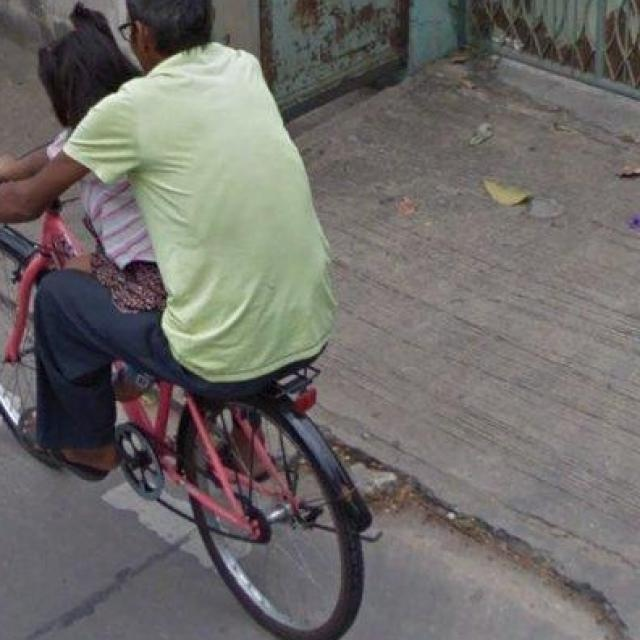bicycle: (0, 90, 428, 638)
